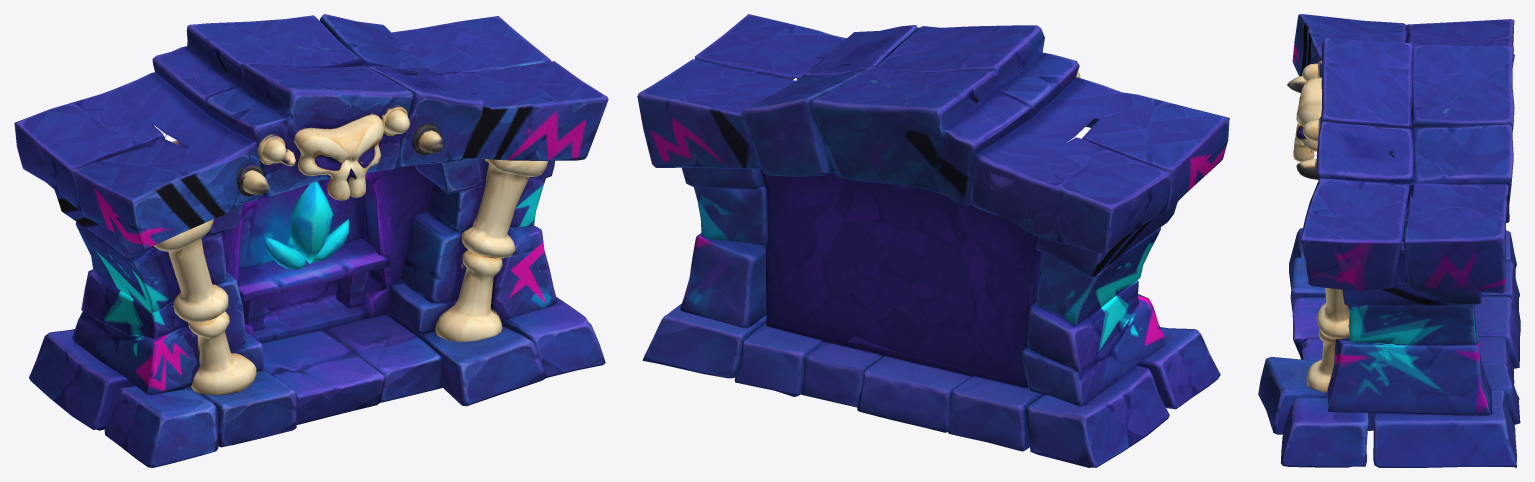
File: moonbone-crypt.glb
3 views of the same model, side by side, from view 1: azimuth 30°, elevation 25°; view 2: azimuth 150°, elevation 25°; view 3: azimuth 270°, elevation 25° (orthographic). The views are drawn at different scales.
Bounding box in the file's own units: 1 × 0.6604 × 0.5209.
1 material, 1 textured.
